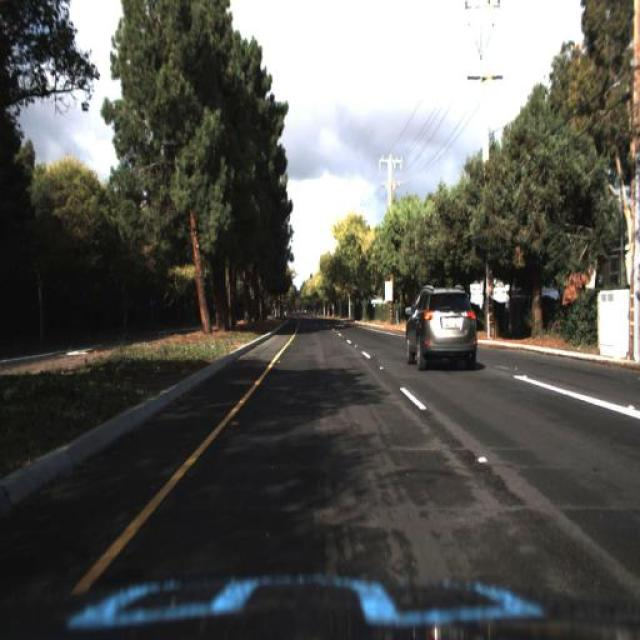car: (404, 283, 478, 372)
